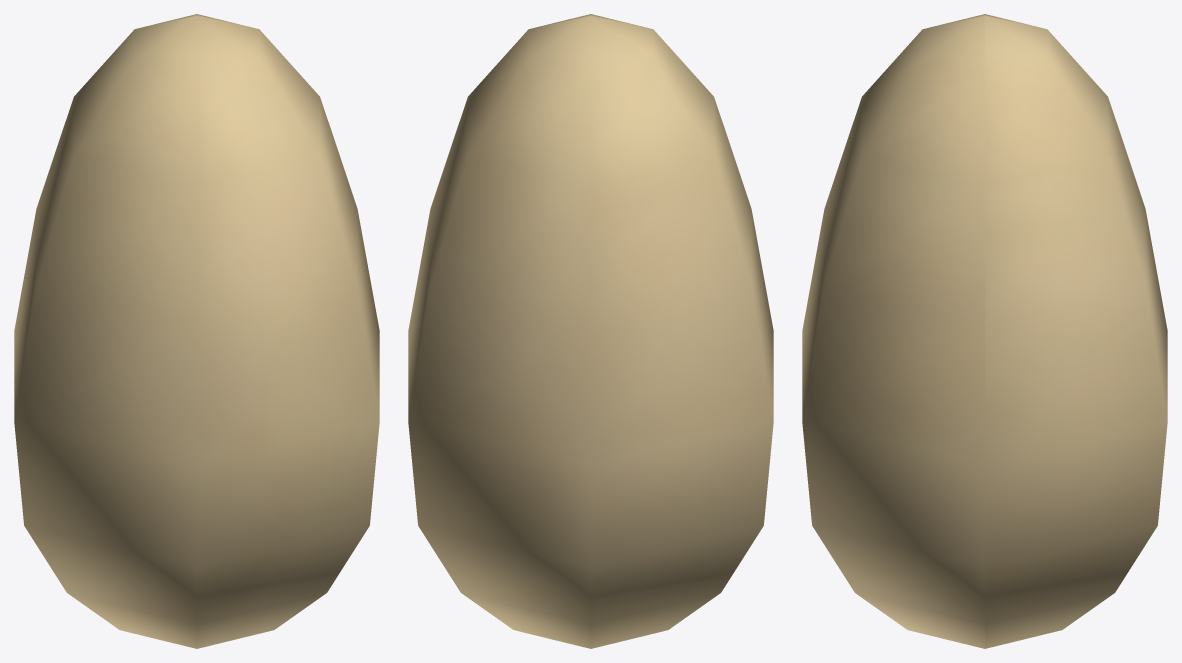
File: SnakeEgg.FBX
The picture shows the model from 3 angles, left to right: view 1: azimuth 30°, elevation 25°; view 2: azimuth 150°, elevation 25°; view 3: azimuth 270°, elevation 25°; orthographic projection.
Parts seen in each view (by area): view 1: pSphere1; view 2: pSphere1; view 3: pSphere1.
Boxes of the visible parts, bbox=[...] form: pSphere1: bbox=[14, 14, 379, 648]; pSphere1: bbox=[408, 14, 773, 648]; pSphere1: bbox=[802, 14, 1167, 648].
Size of the model in its own units: 0.3754 by 0.6063 by 0.3251.
Materials: 1 (1 with a texture image).
